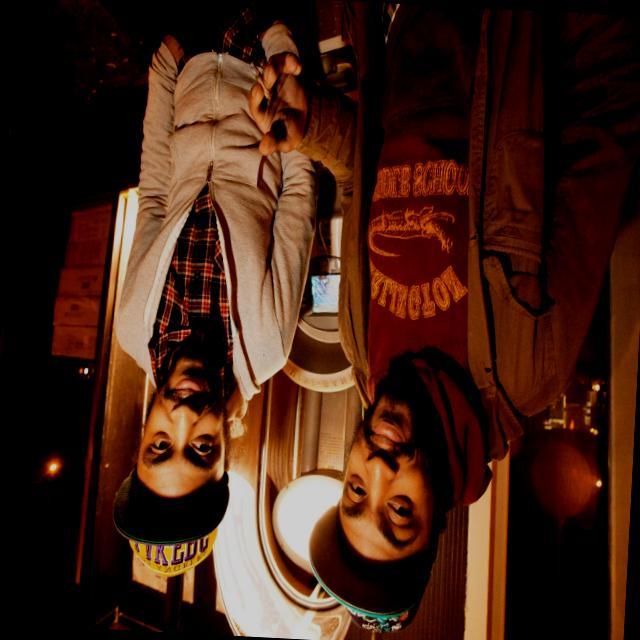smoke: (242, 43, 286, 117)
